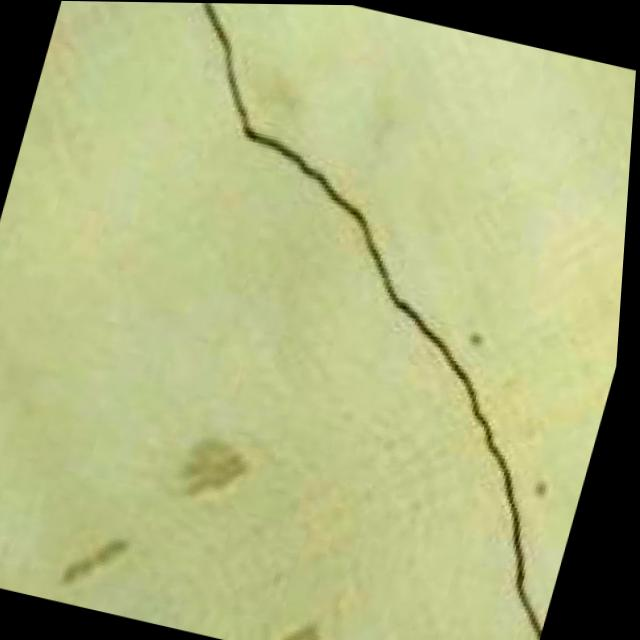Crack: (26, 1, 640, 640)
